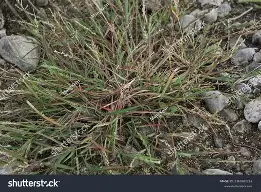weed: (0, 0, 228, 173)
